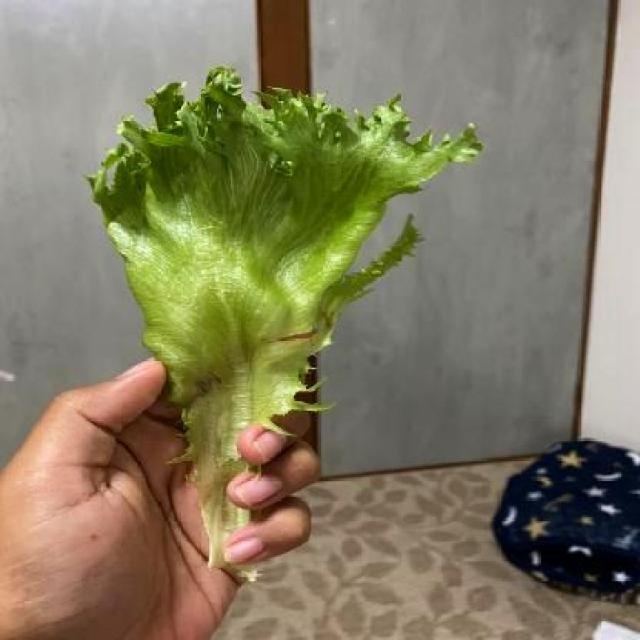Lettuce: (89, 65, 482, 576)
